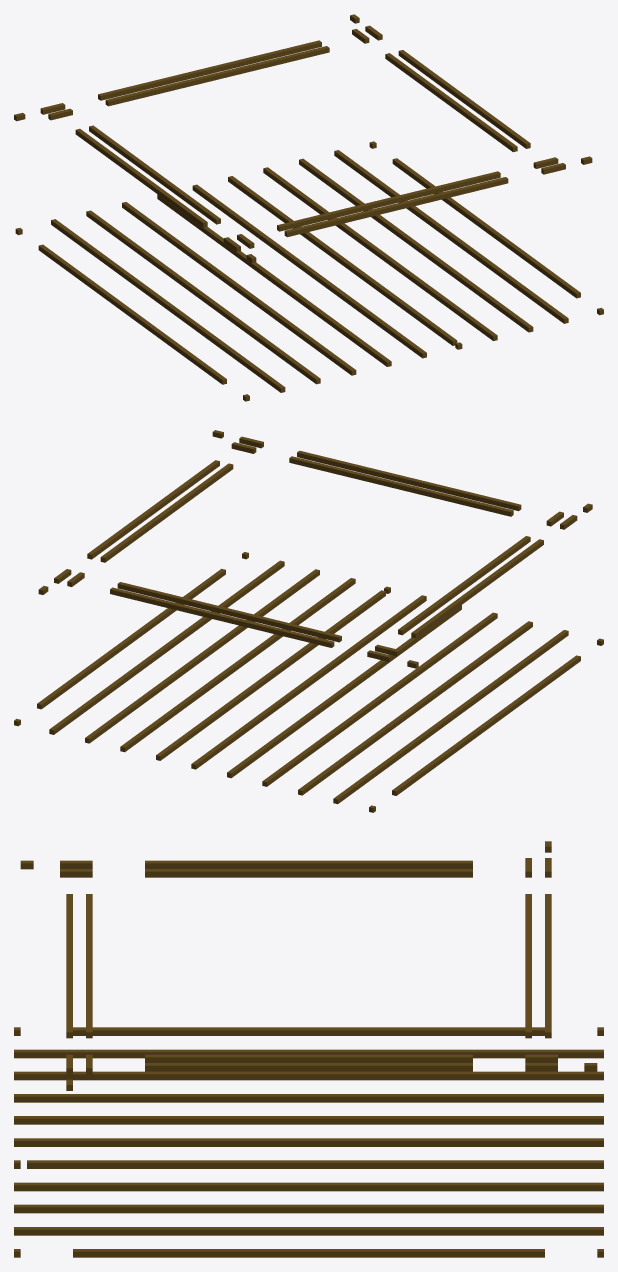
The model's file is cabin0-4.obj.
The picture shows the model from 3 angles, top to bottom: view 1: azimuth 30°, elevation 25°; view 2: azimuth 150°, elevation 25°; view 3: azimuth 270°, elevation 25°; orthographic projection. The views are drawn at different scales.
Bounding box in the file's own units: 8.8 × 3 × 9.
Materials: 1 (1 with a texture image).
